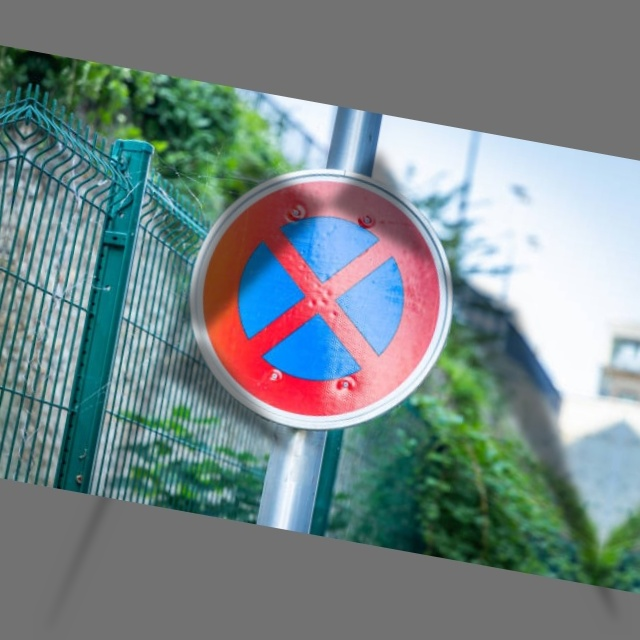No_Stopping_or_Standing: (176, 165, 471, 439)
